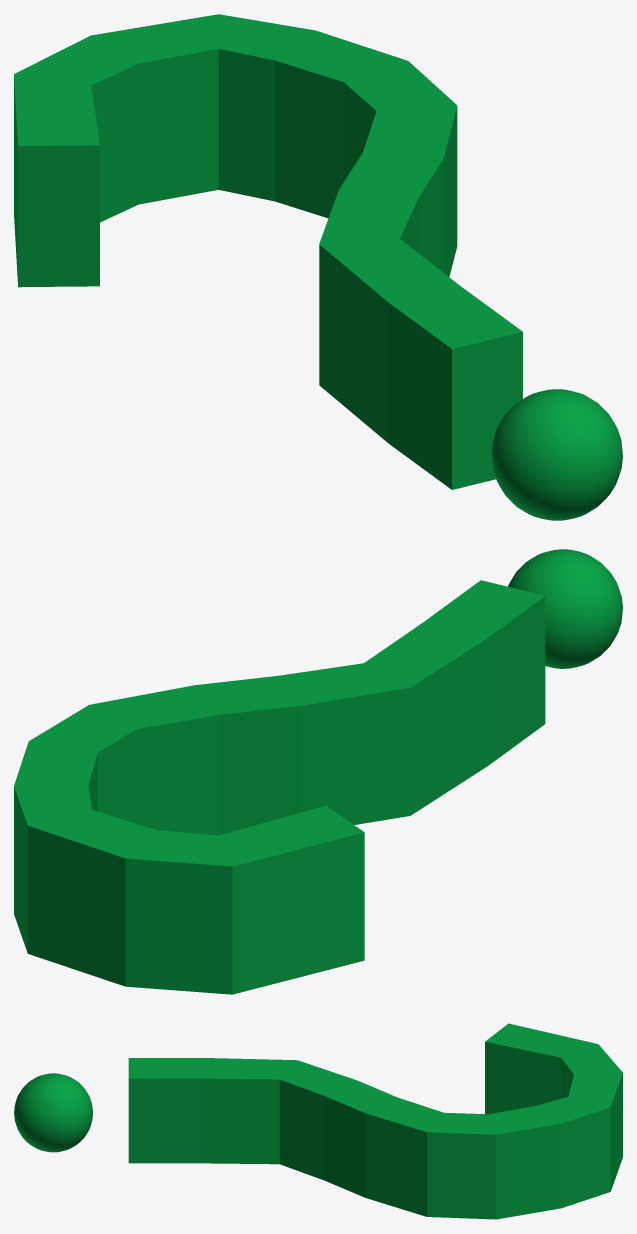
Rendered from QuestionMark.FBX.
3 views of the same model, one above another, from view 1: azimuth 30°, elevation 25°; view 2: azimuth 150°, elevation 25°; view 3: azimuth 270°, elevation 25° (orthographic). The views are drawn at different scales.
Visible parts, largest first — view 1: Line001, Sphere001; view 2: Line001, Sphere001; view 3: Line001, Sphere001.
Part boxes in pixels (x1,y1,x2,y2): Line001: (14,14,522,489); Sphere001: (491,389,622,520); Line001: (14,580,545,994); Sphere001: (508,549,622,668); Line001: (128,1023,622,1219); Sphere001: (14,1073,92,1152).
Bounding box in the file's own units: 0.6805 × 1.57 × 0.2413.
